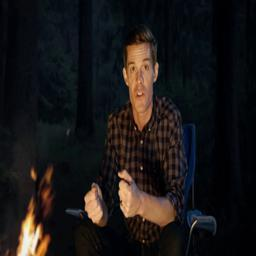fire: (14, 168, 53, 256)
